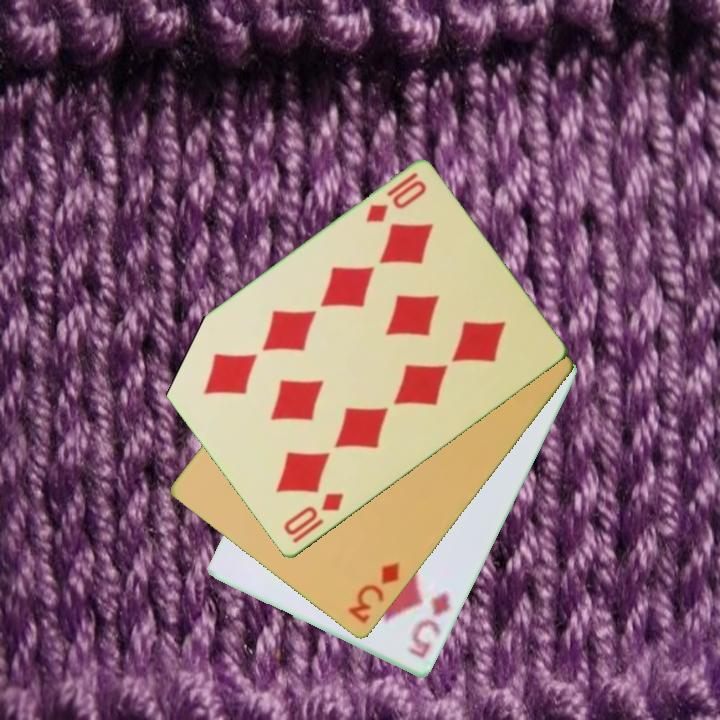10d: (279, 489, 347, 547), (362, 169, 430, 227)
3d: (345, 558, 403, 627)
5d: (403, 587, 453, 662)
